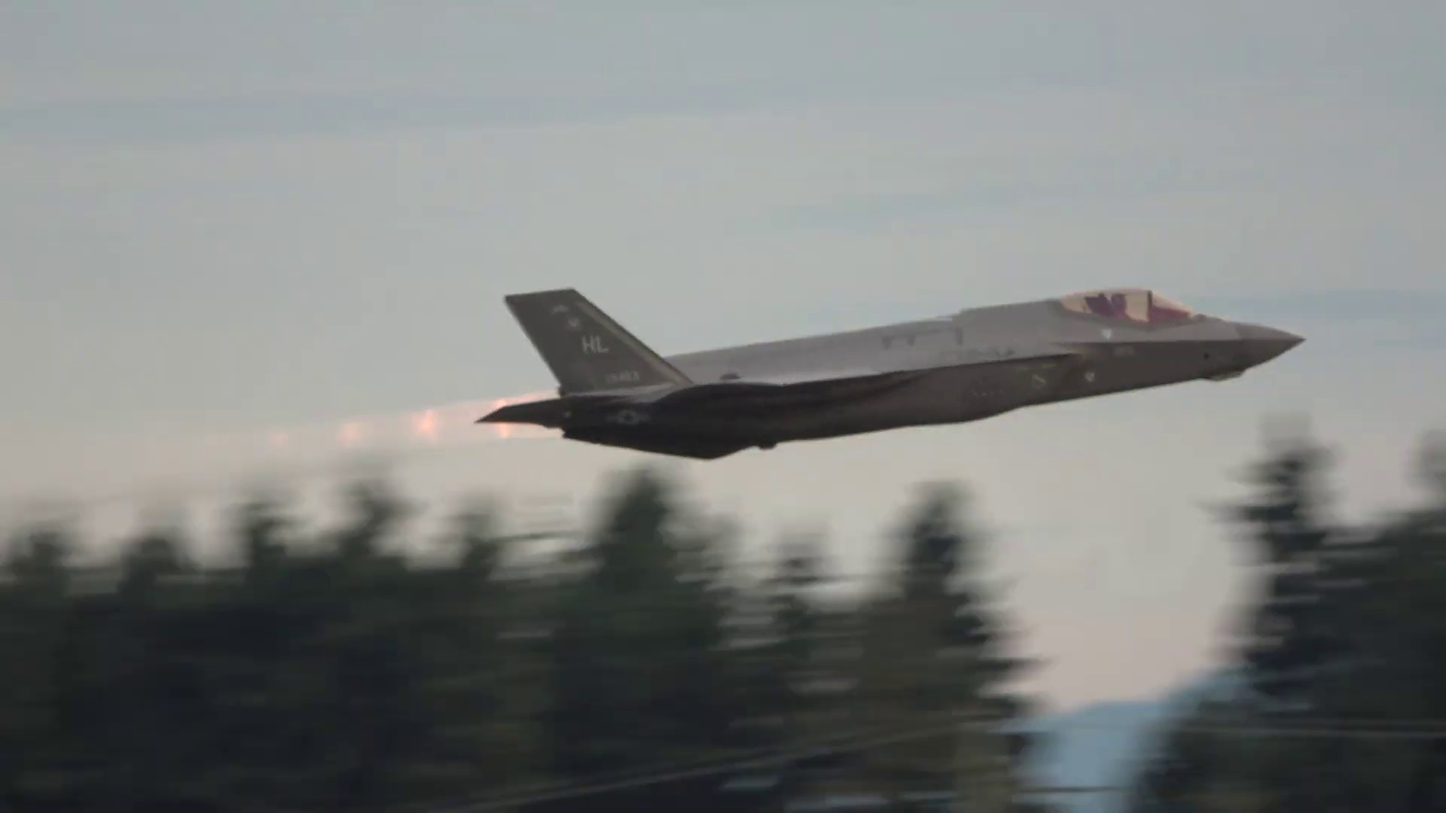F35: (475, 275, 1296, 462)
